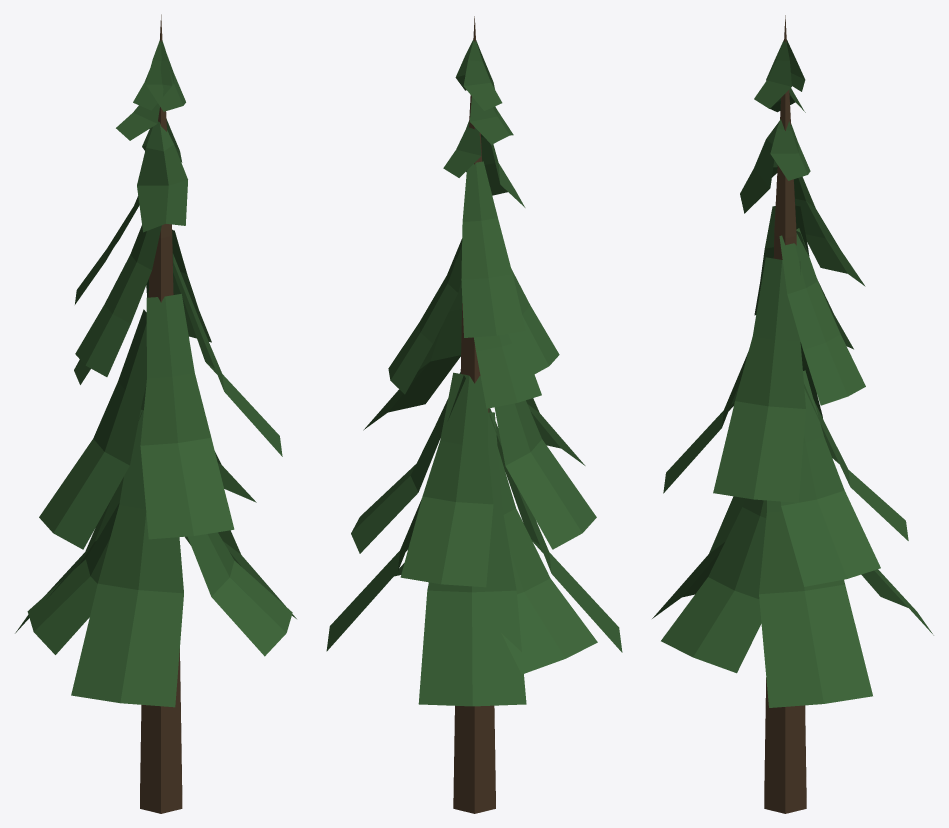
File: pinetree_02.fbx
3 views of the same model, side by side, from view 1: azimuth 30°, elevation 25°; view 2: azimuth 150°, elevation 25°; view 3: azimuth 270°, elevation 25° (orthographic).
Visible parts, largest first — view 1: Pinetree_02; view 2: Pinetree_02; view 3: Pinetree_02.
Boxes of the visible parts, box(x1,y1,x2,y2) form: Pinetree_02: box(15, 14, 296, 813); Pinetree_02: box(326, 16, 622, 813); Pinetree_02: box(652, 15, 933, 813).
Bounding box in the file's own units: 3.66 × 11.15 × 3.62.
Materials: 1 (1 with a texture image).
